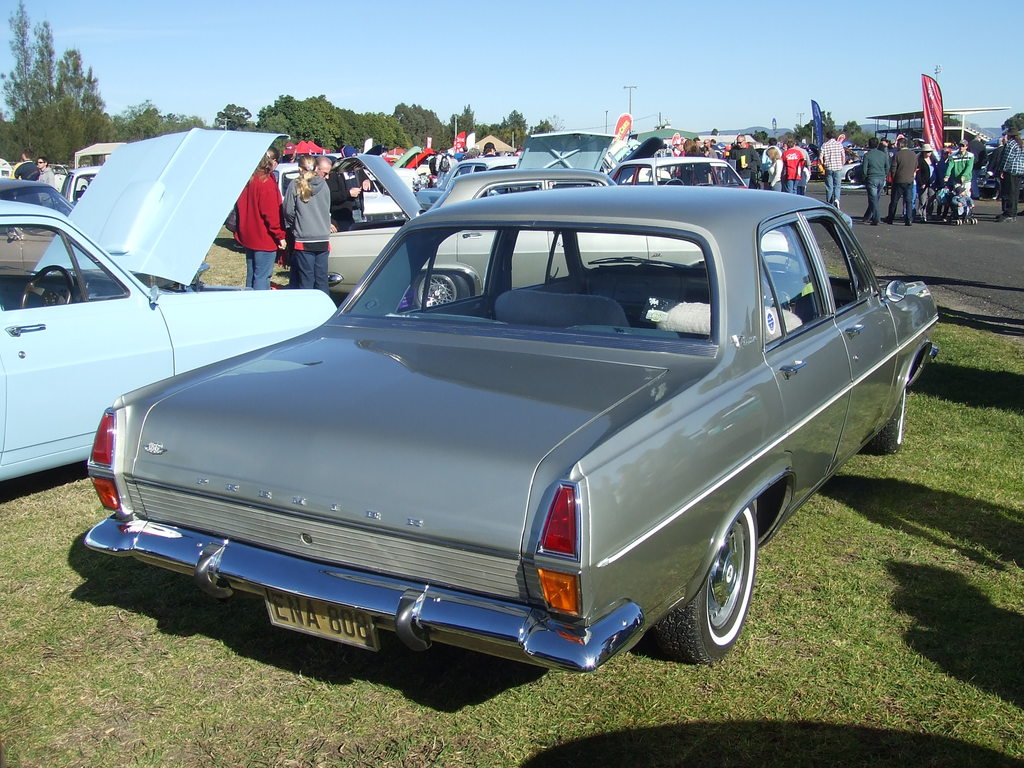cars: (80, 162, 932, 691), (0, 129, 341, 497), (316, 143, 787, 312)
